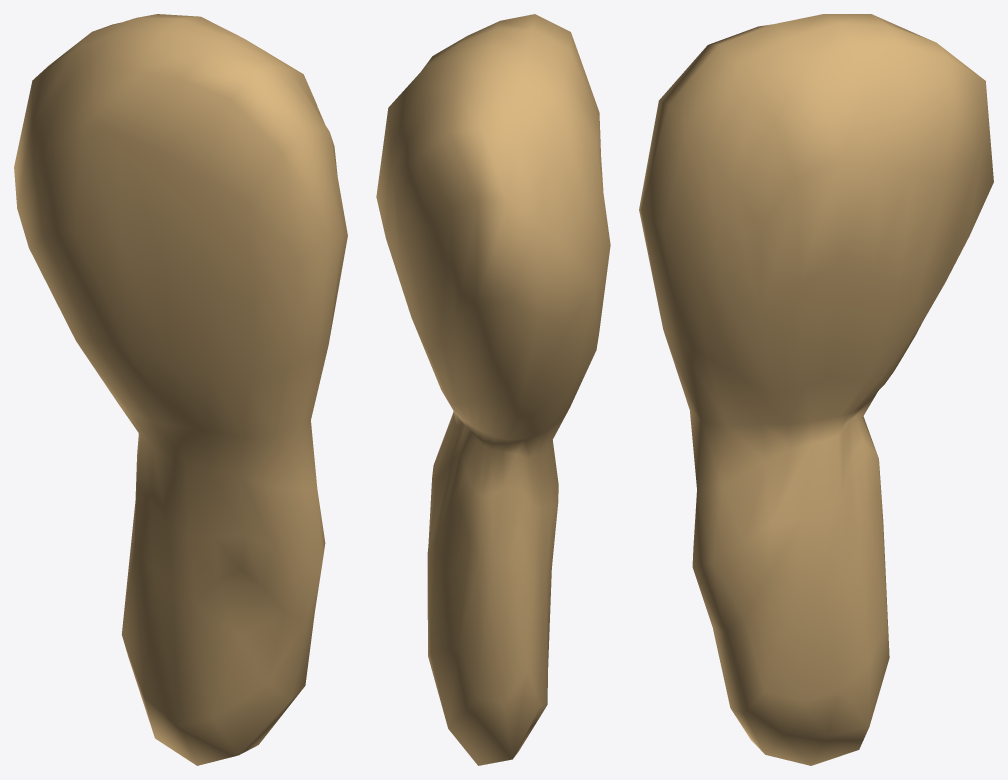
Rendered from haltere_left_lower.obj.
The picture shows the model from 3 angles, left to right: view 1: azimuth 30°, elevation 25°; view 2: azimuth 150°, elevation 25°; view 3: azimuth 270°, elevation 25°; orthographic projection.
Bounding box in the file's own units: 0.0102 × 0.0297 × 0.0131.
